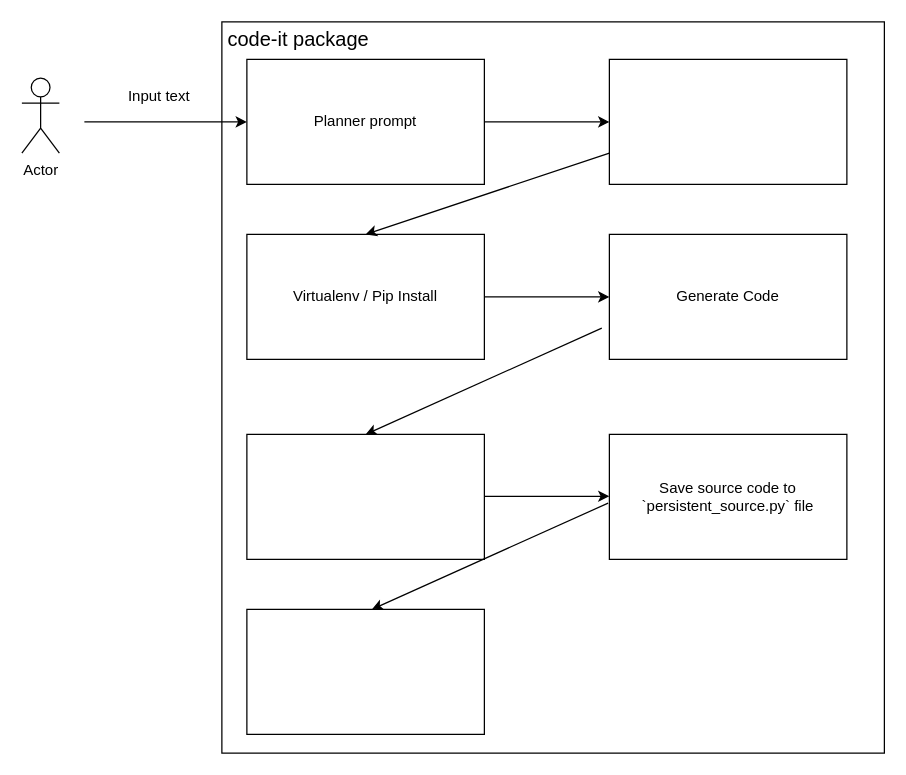
Image size: 906x775. Some labels were removed from this diagram. The shapes that lost their labels are listed below. From the top down, each one's centre as x and y in pixels, then its label:
the point at 727,121: Dependency Tracker Prompt
the point at 365,496: Sample N generations, score using Pylint, take best score
the point at 365,671: Execute Code!
